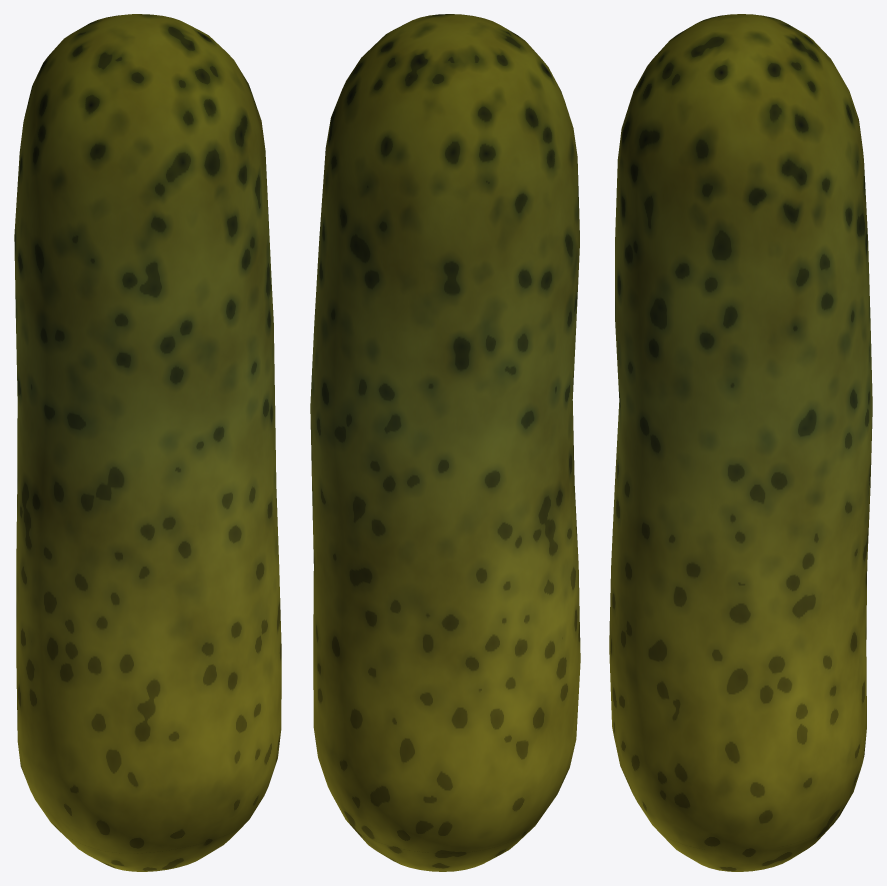
Rendered from pickle.glb.
The picture shows the model from 3 angles, left to right: view 1: azimuth 30°, elevation 25°; view 2: azimuth 150°, elevation 25°; view 3: azimuth 270°, elevation 25°; orthographic projection.
Visible parts, largest first — view 1: pickle.001; view 2: pickle.001; view 3: pickle.001.
Boxes of the visible parts, left/top/right/bottom form: pickle.001: left=14, top=14, right=281, bottom=871; pickle.001: left=310, top=14, right=580, bottom=871; pickle.001: left=609, top=14, right=872, bottom=871.
Bounding box in the file's own units: 0.5979 × 2.05 × 0.5896.
Materials: 1 (1 with a texture image).
